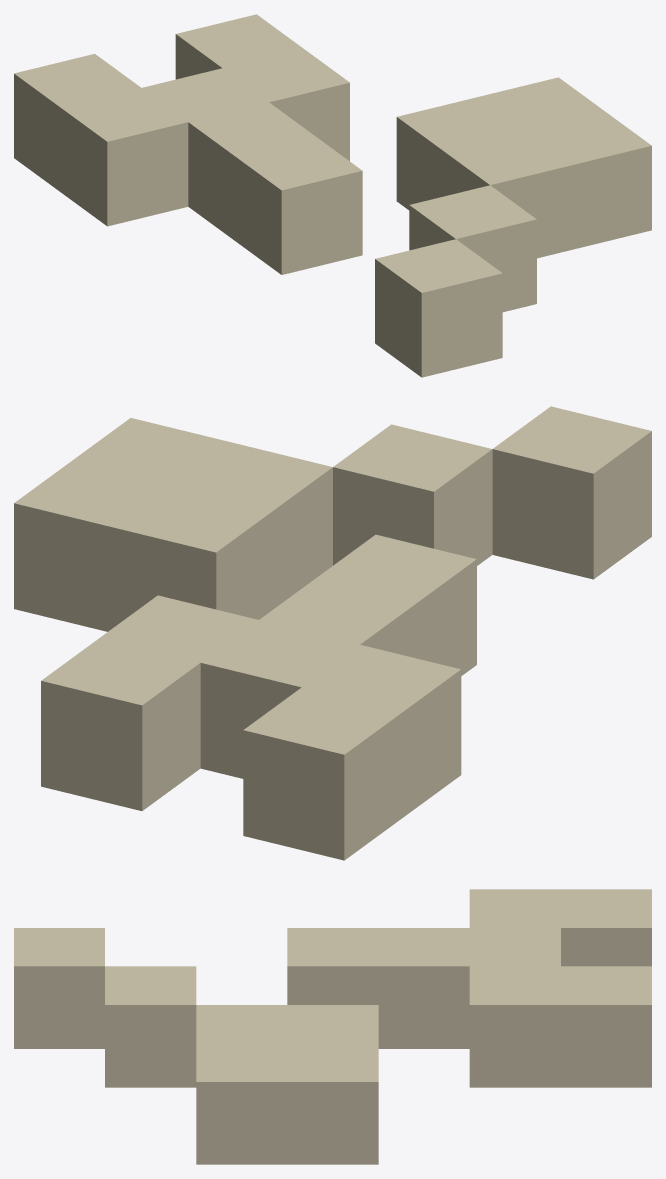
The model's file is Playground_Set-3.obj.
3 views of the same model, one above another, from view 1: azimuth 30°, elevation 25°; view 2: azimuth 150°, elevation 25°; view 3: azimuth 270°, elevation 25° (orthographic). The views are drawn at different scales.
Size of the model in its own units: 0.5 by 0.1 by 0.7.
1 material, 1 textured.
